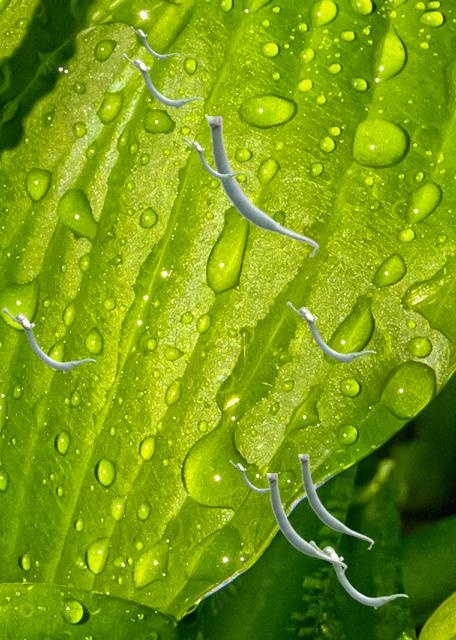french_bean: (206, 116, 318, 257), (266, 473, 346, 574), (298, 454, 373, 549), (309, 540, 407, 608), (2, 307, 95, 372), (286, 301, 375, 363), (122, 53, 202, 108), (183, 137, 244, 180), (130, 26, 178, 59), (229, 460, 268, 493)
